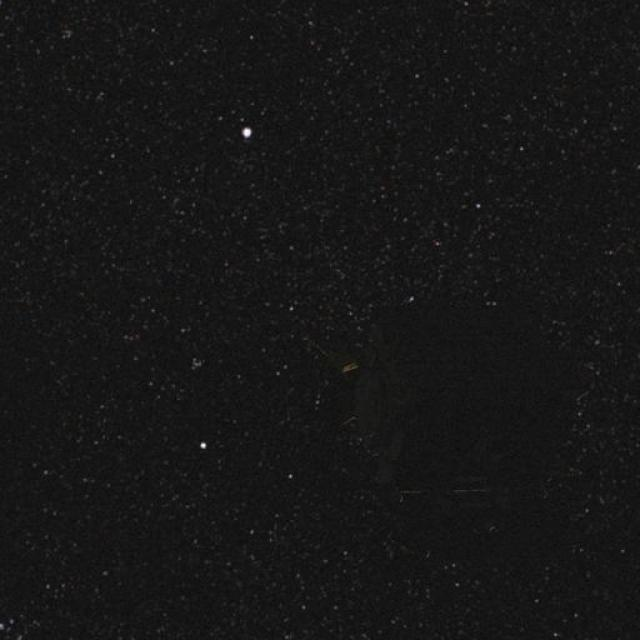proba_2: (341, 290, 584, 543)
